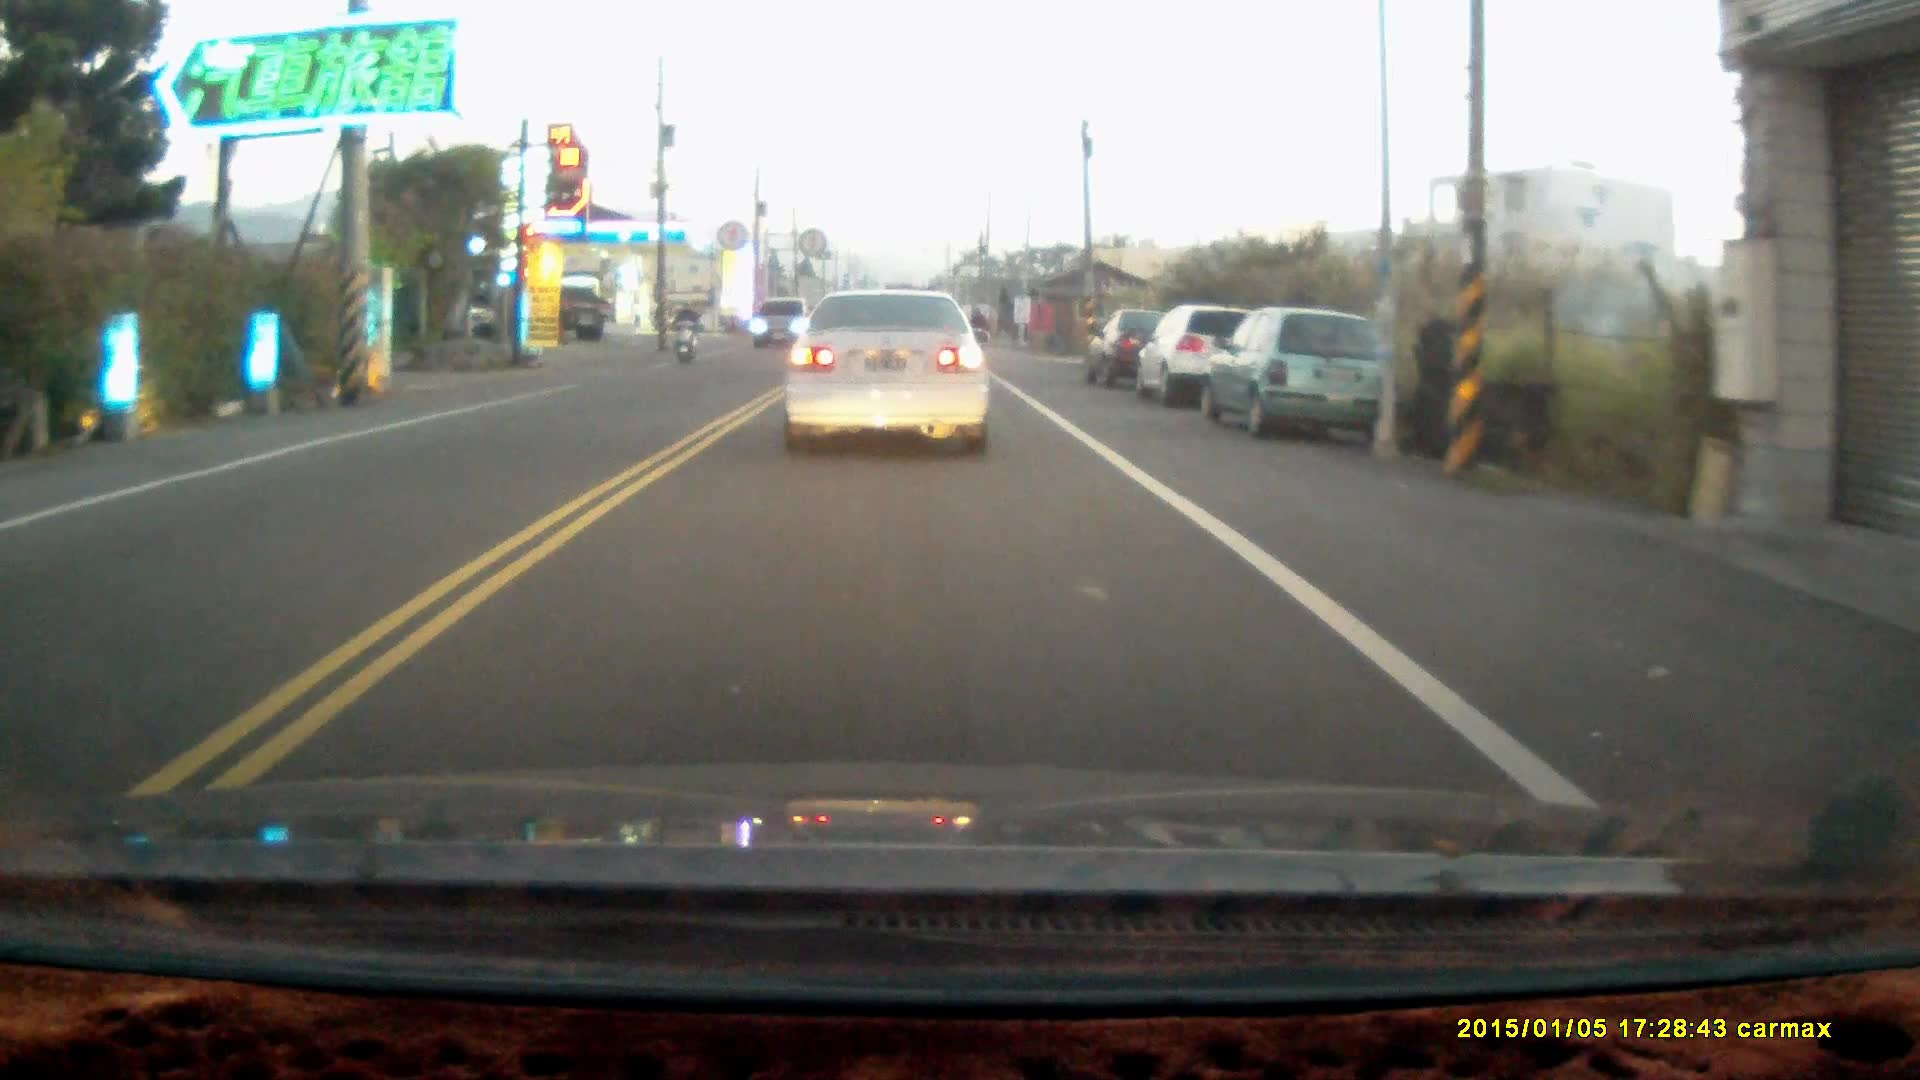rider: (670, 298, 698, 365)
vehicle: (784, 285, 995, 457), (1193, 307, 1397, 441), (1143, 305, 1265, 411), (1089, 307, 1186, 387), (754, 299, 818, 352)
